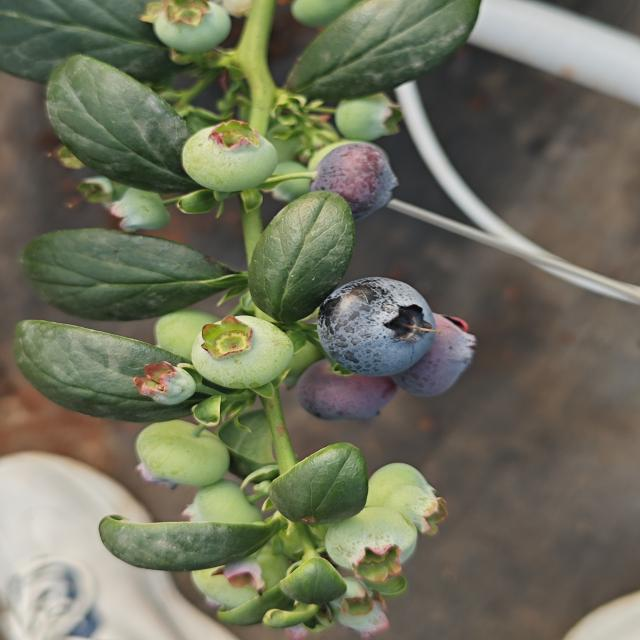ripe: (314, 275, 441, 379), (386, 311, 482, 404), (307, 139, 401, 222), (291, 354, 399, 424)
